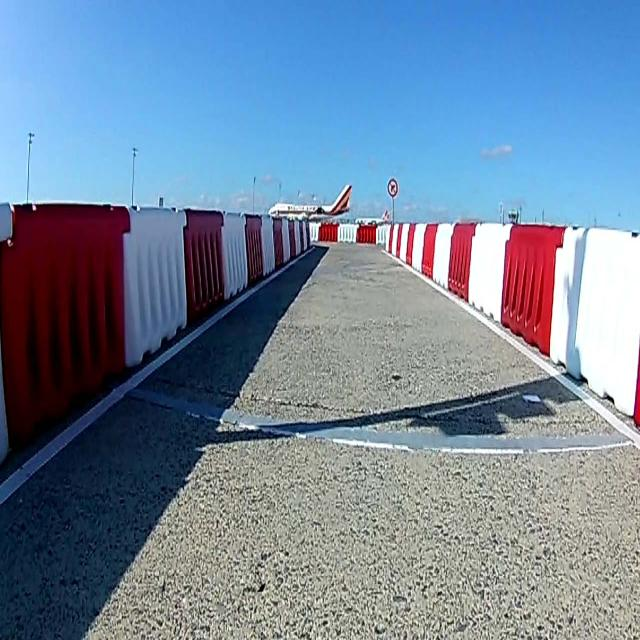sagadonulmez: (388, 179, 398, 197)
